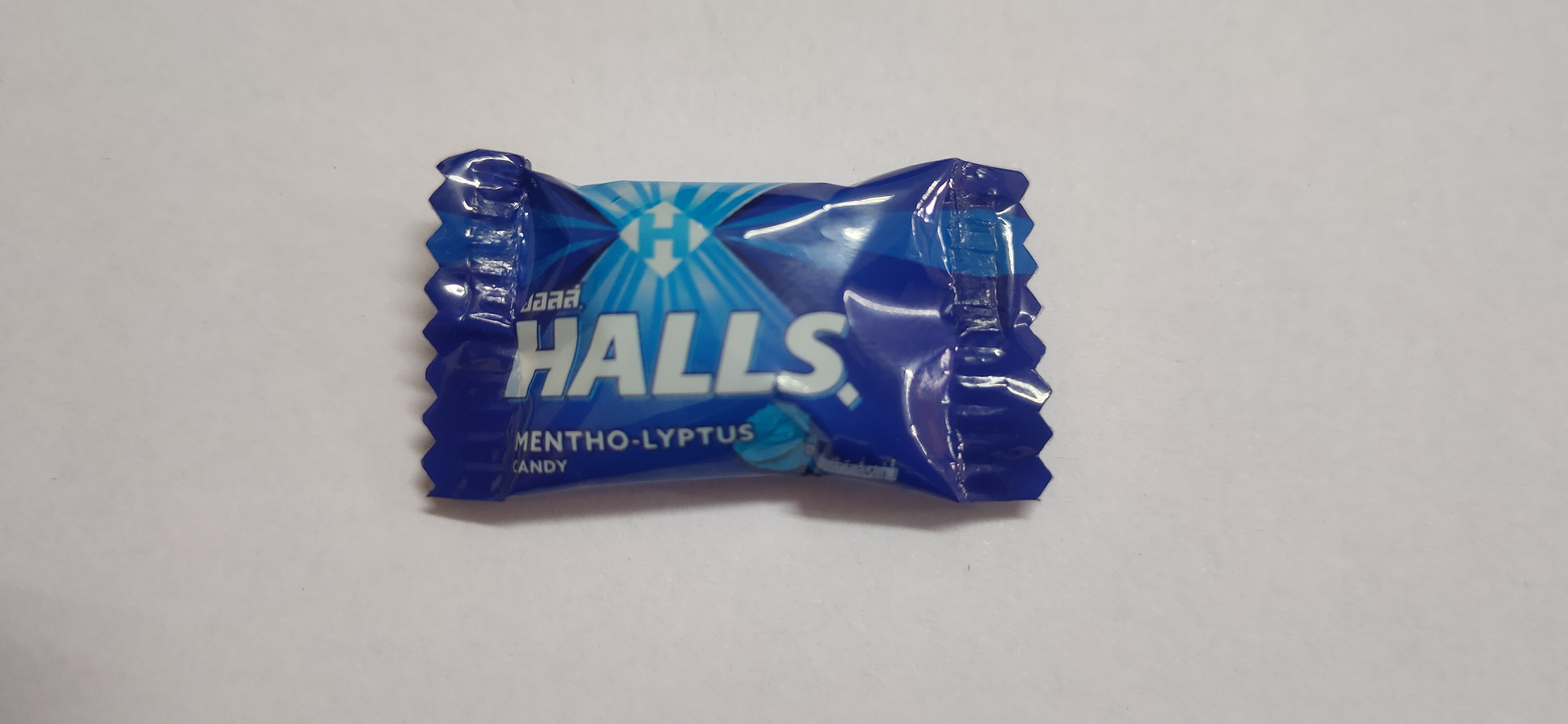plastic: (406, 133, 1059, 527)
